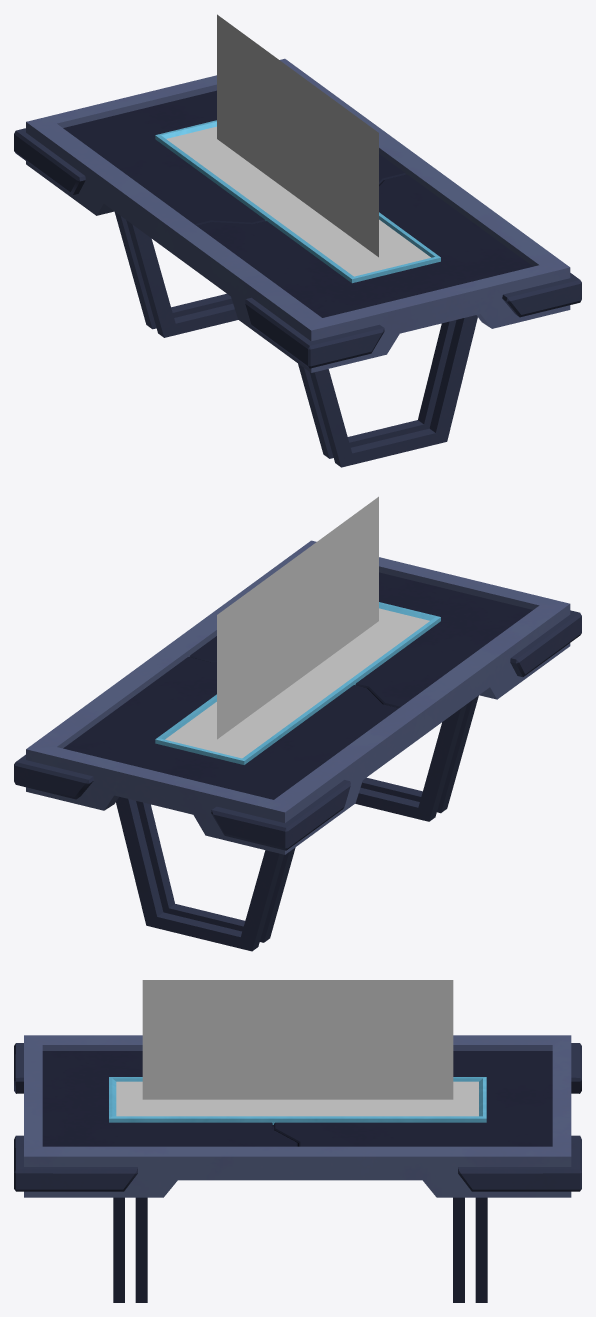
The model's file is hologramtable.fbx.
The picture shows the model from 3 angles, top to bottom: view 1: azimuth 30°, elevation 25°; view 2: azimuth 150°, elevation 25°; view 3: azimuth 270°, elevation 25°; orthographic projection. The views are drawn at different scales.
Parts seen in each view (by area): view 1: monitor2:polySurface1, pPlane1, monitor2:polySurface3, pPlane2, monitor2:polySurface8, monitor2:polySurface7, polySurface2859, monitor2:polySurface10, polySurface2860, polySurface4, monitor2:polySurface9, monitor2:polySurface12 (+1 smaller); view 2: monitor2:polySurface1, pPlane1, monitor2:polySurface7, monitor2:polySurface8, monitor2:polySurface3, pPlane2, polySurface2858, monitor2:polySurface12, polySurface2860, polySurface4, monitor2:polySurface11, monitor2:polySurface10 (+1 smaller); view 3: pPlane1, pPlane2, monitor2:polySurface1, monitor2:polySurface7, monitor2:polySurface3, monitor2:polySurface8, monitor2:polySurface11, monitor2:polySurface9, polySurface4, polySurface2858, polySurface2859, polySurface2860 (+2 smaller).
Boxes of the visible parts, left/top/right/bottom form: monitor2:polySurface1: left=26, top=58, right=570, bottom=372; pPlane1: left=217, top=14, right=378, bottom=256; monitor2:polySurface3: left=197, top=174, right=532, bottom=317; pPlane2: left=217, top=15, right=378, bottom=257; monitor2:polySurface8: left=155, top=120, right=440, bottom=283; monitor2:polySurface7: left=63, top=90, right=405, bottom=225; polySurface2859: left=309, top=315, right=477, bottom=467; monitor2:polySurface10: left=245, top=297, right=384, bottom=368; polySurface2860: left=126, top=220, right=238, bottom=337; polySurface4: left=298, top=320, right=456, bottom=458; monitor2:polySurface9: left=502, top=273, right=581, bottom=317; monitor2:polySurface12: left=14, top=128, right=85, bottom=194; monitor2:polySurface1: left=26, top=540, right=570, bottom=854; pPlane1: left=217, top=496, right=378, bottom=738; monitor2:polySurface7: left=63, top=657, right=398, bottom=799; monitor2:polySurface8: left=155, top=602, right=440, bottom=764; monitor2:polySurface3: left=189, top=572, right=532, bottom=707; pPlane2: left=217, top=497, right=378, bottom=739; polySurface2858: left=116, top=797, right=283, bottom=951; monitor2:polySurface12: left=211, top=780, right=350, bottom=850; polySurface2860: left=136, top=801, right=295, bottom=942; polySurface4: left=355, top=704, right=466, bottom=821; monitor2:polySurface11: left=14, top=754, right=93, bottom=799; monitor2:polySurface10: left=510, top=610, right=581, bottom=677; pPlane1: left=142, top=980, right=453, bottom=1098; pPlane2: left=142, top=980, right=453, bottom=1099; monitor2:polySurface1: left=24, top=1035, right=571, bottom=1197; monitor2:polySurface7: left=274, top=1051, right=552, bottom=1146; monitor2:polySurface3: left=42, top=1051, right=297, bottom=1146; monitor2:polySurface8: left=109, top=1077, right=486, bottom=1124; monitor2:polySurface11: left=458, top=1135, right=581, bottom=1191; monitor2:polySurface9: left=14, top=1135, right=137, bottom=1191; polySurface4: left=135, top=1197, right=147, bottom=1302; polySurface2858: left=475, top=1197, right=487, bottom=1302; polySurface2859: left=113, top=1197, right=124, bottom=1302; polySurface2860: left=453, top=1197, right=464, bottom=1302.
Bounding box in the file's own units: 20.88 × 22.62 × 39.09.
